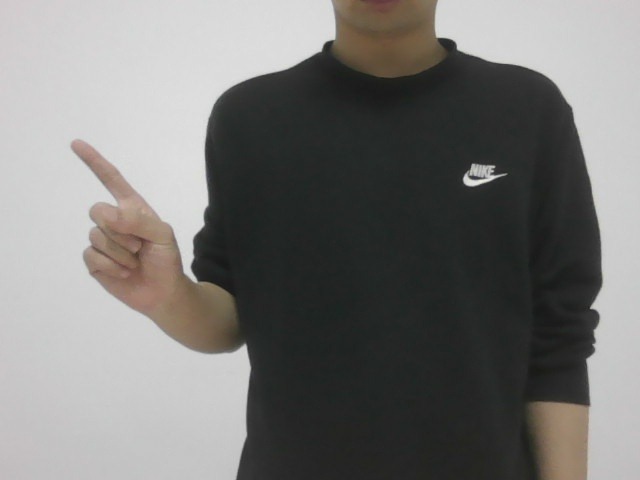what: (59, 126, 189, 353)
